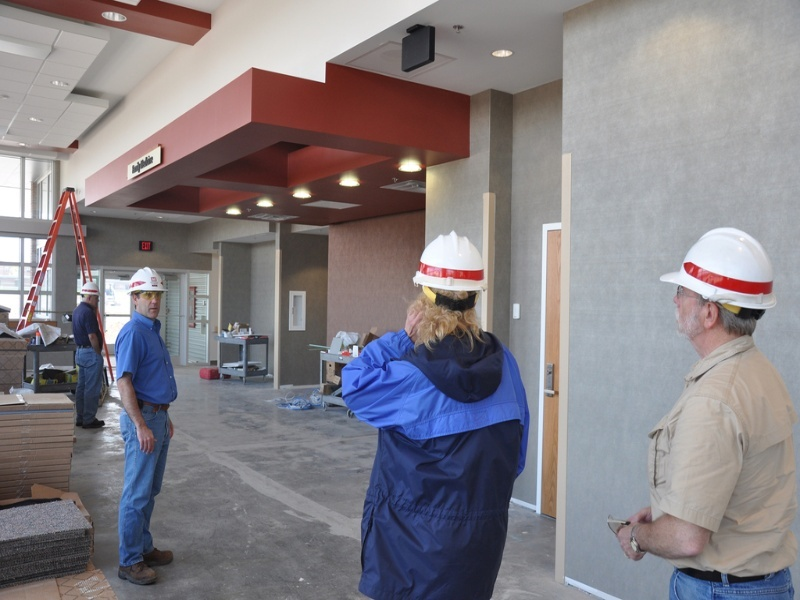Baret: (672, 229, 779, 306), (417, 232, 490, 291), (123, 265, 170, 293), (81, 283, 104, 295)
